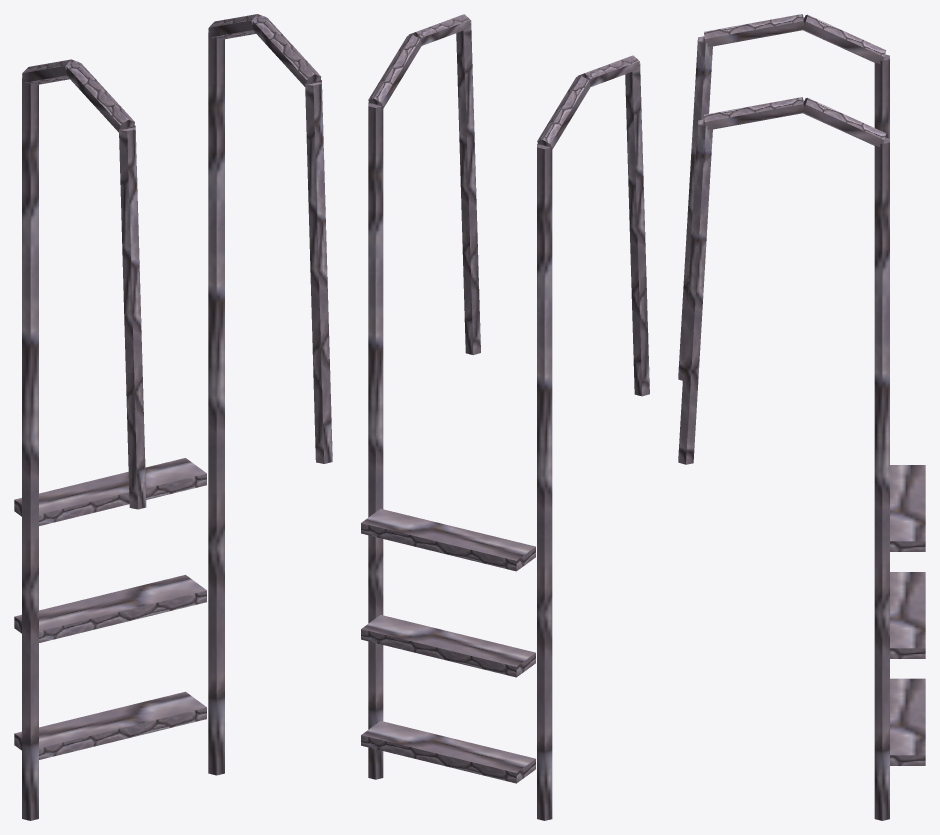
Rendered from Pool_Ladder.fbx.
The picture shows the model from 3 angles, left to right: view 1: azimuth 30°, elevation 25°; view 2: azimuth 150°, elevation 25°; view 3: azimuth 270°, elevation 25°; orthographic projection. The views are drawn at different scales.
Visible parts, largest first — view 1: Pool_Ladder; view 2: Pool_Ladder; view 3: Pool_Ladder.
Part boxes in pixels (<box>): Pool_Ladder: <box>14,14,332,820</box>; Pool_Ladder: <box>361,14,649,820</box>; Pool_Ladder: <box>678,14,925,820</box>.
Size of the model in its own units: 0.545 by 2.02 by 0.6295.
